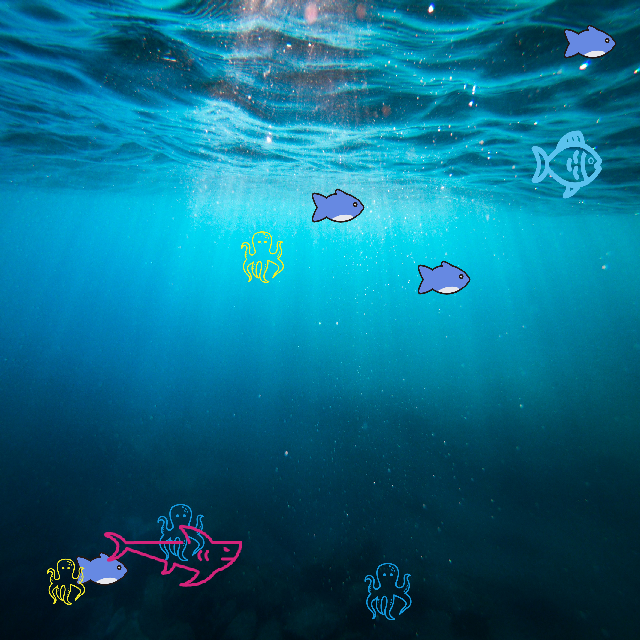target fish: (99, 521, 247, 588)
